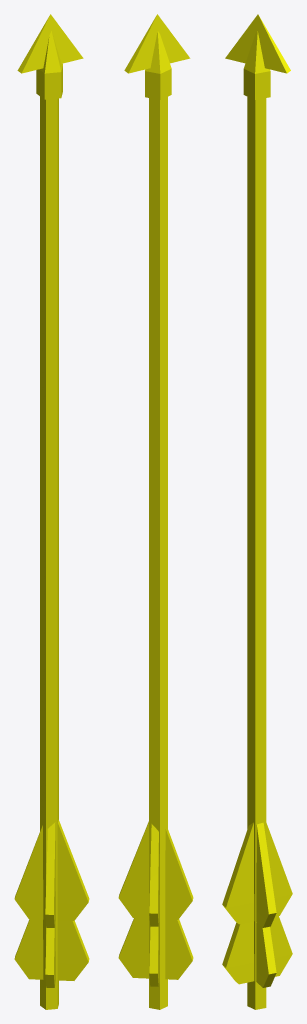
The model's file is _arrow_b_19.glb.
The picture shows the model from 3 angles, left to right: view 1: azimuth 30°, elevation 25°; view 2: azimuth 210°, elevation 25°; view 3: azimuth 330°, elevation 25°; orthographic projection.
Visible parts, largest first — view 1: arrow_b_19; view 2: arrow_b_19; view 3: arrow_b_19.
Part boxes in pixels (bbox=[...]): arrow_b_19: bbox=[14, 14, 89, 1009]; arrow_b_19: bbox=[118, 14, 193, 1009]; arrow_b_19: bbox=[222, 14, 292, 1009].
Bounding box in the file's own units: 0.0372 × 0.5682 × 0.0347.
1 material, 1 textured.
